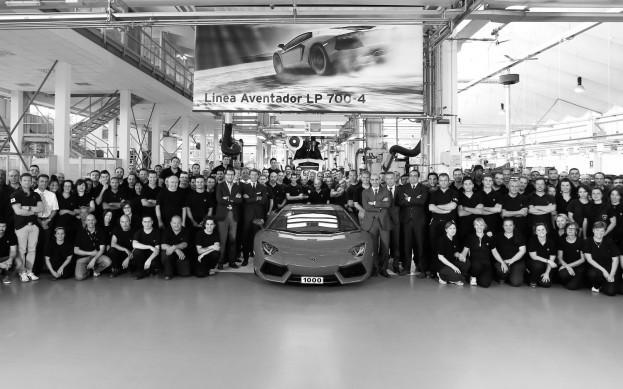car: (253, 204, 377, 286)
